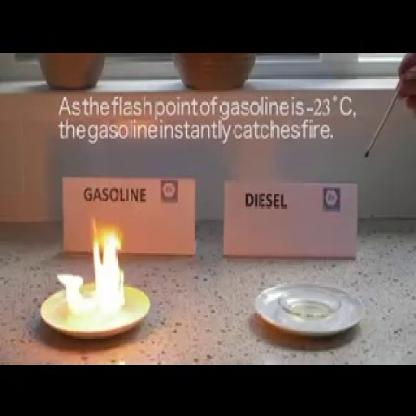fire: (52, 214, 129, 323)
